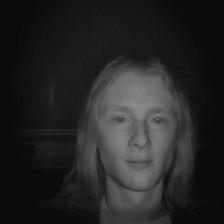normal: (83, 58, 196, 197)
